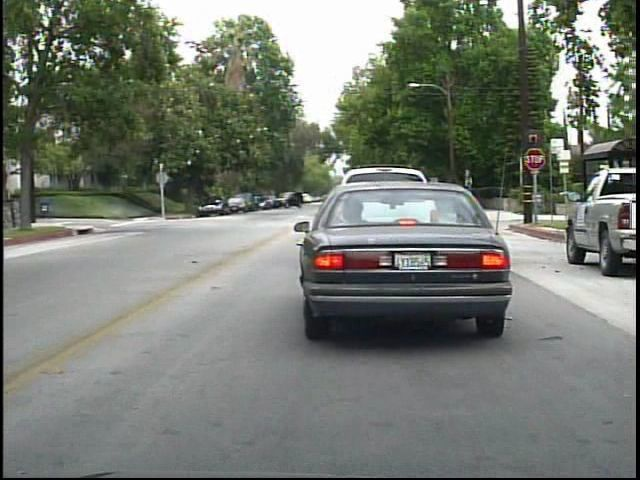person: (252, 190, 263, 213)
